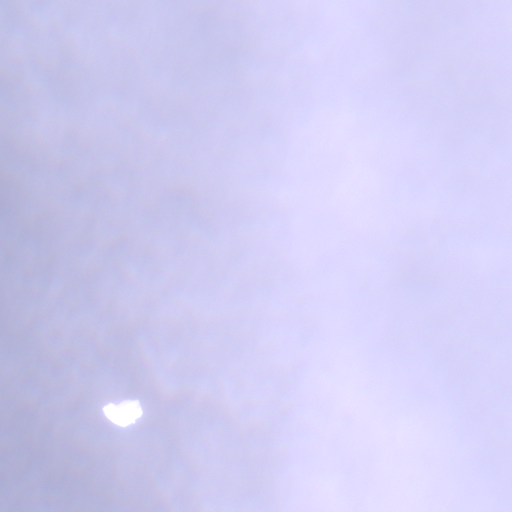Iceberg: (103, 400, 142, 426)
